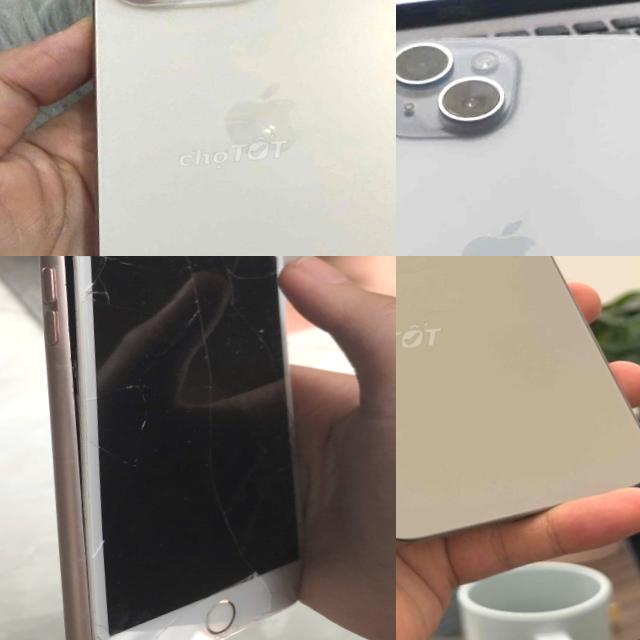gen_15: (396, 256, 640, 560), (396, 10, 640, 256)
gen_16: (93, 0, 396, 256)
gen_7_8: (13, 256, 339, 640)
physical_damage: (30, 256, 95, 413), (227, 562, 327, 634), (83, 368, 170, 448), (213, 310, 299, 370), (179, 322, 231, 407), (82, 256, 153, 312), (67, 511, 136, 568), (172, 256, 226, 327), (149, 600, 236, 640), (89, 620, 158, 640)
